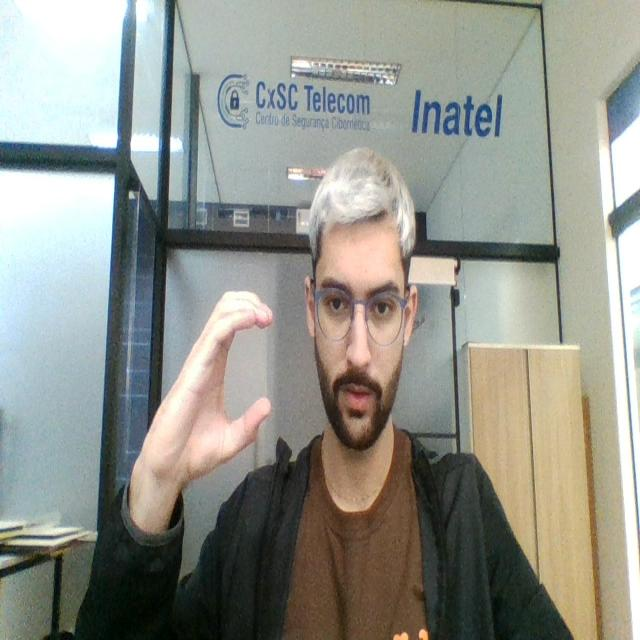C: (156, 286, 276, 478)
